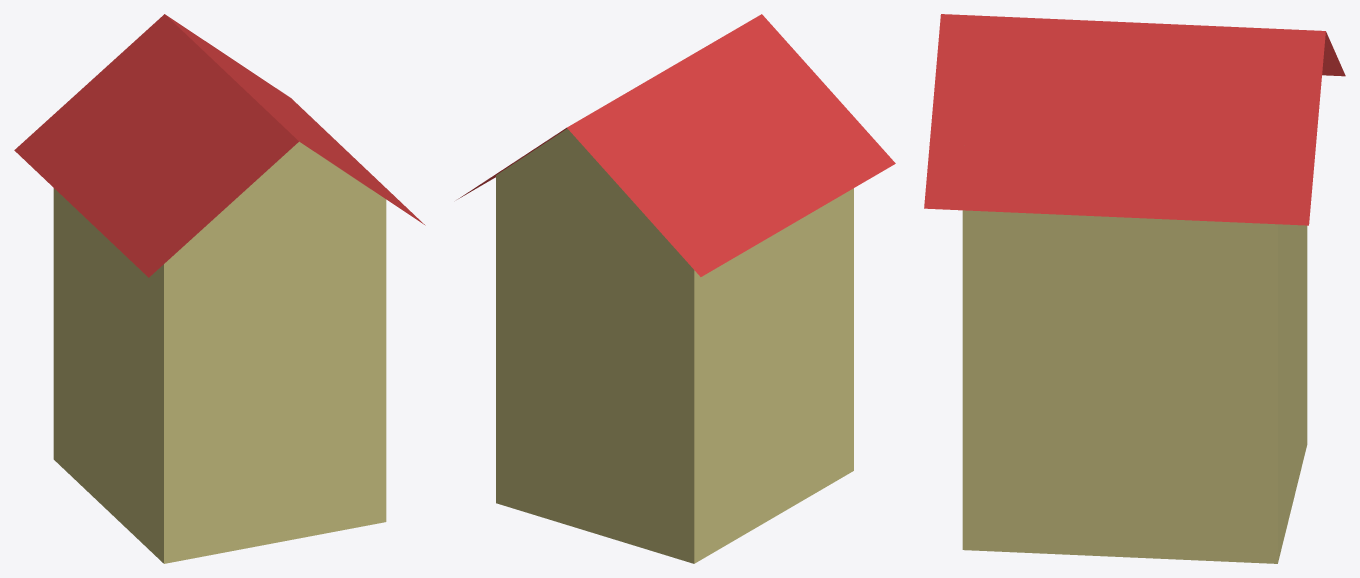
The picture shows the model from 3 angles, left to right: view 1: azimuth 30°, elevation 25°; view 2: azimuth 150°, elevation 25°; view 3: azimuth 270°, elevation 25°; orthographic projection. The views are drawn at different scales.
Size of the model in its own units: 5.61 by 6.02 by 7.57.
